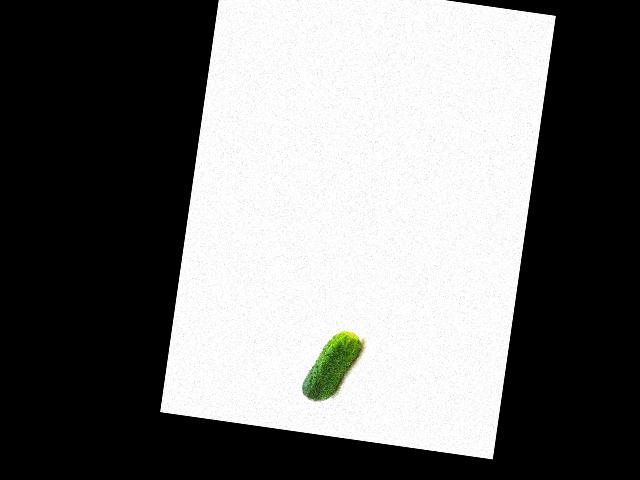cucumber: (300, 325, 362, 406)
